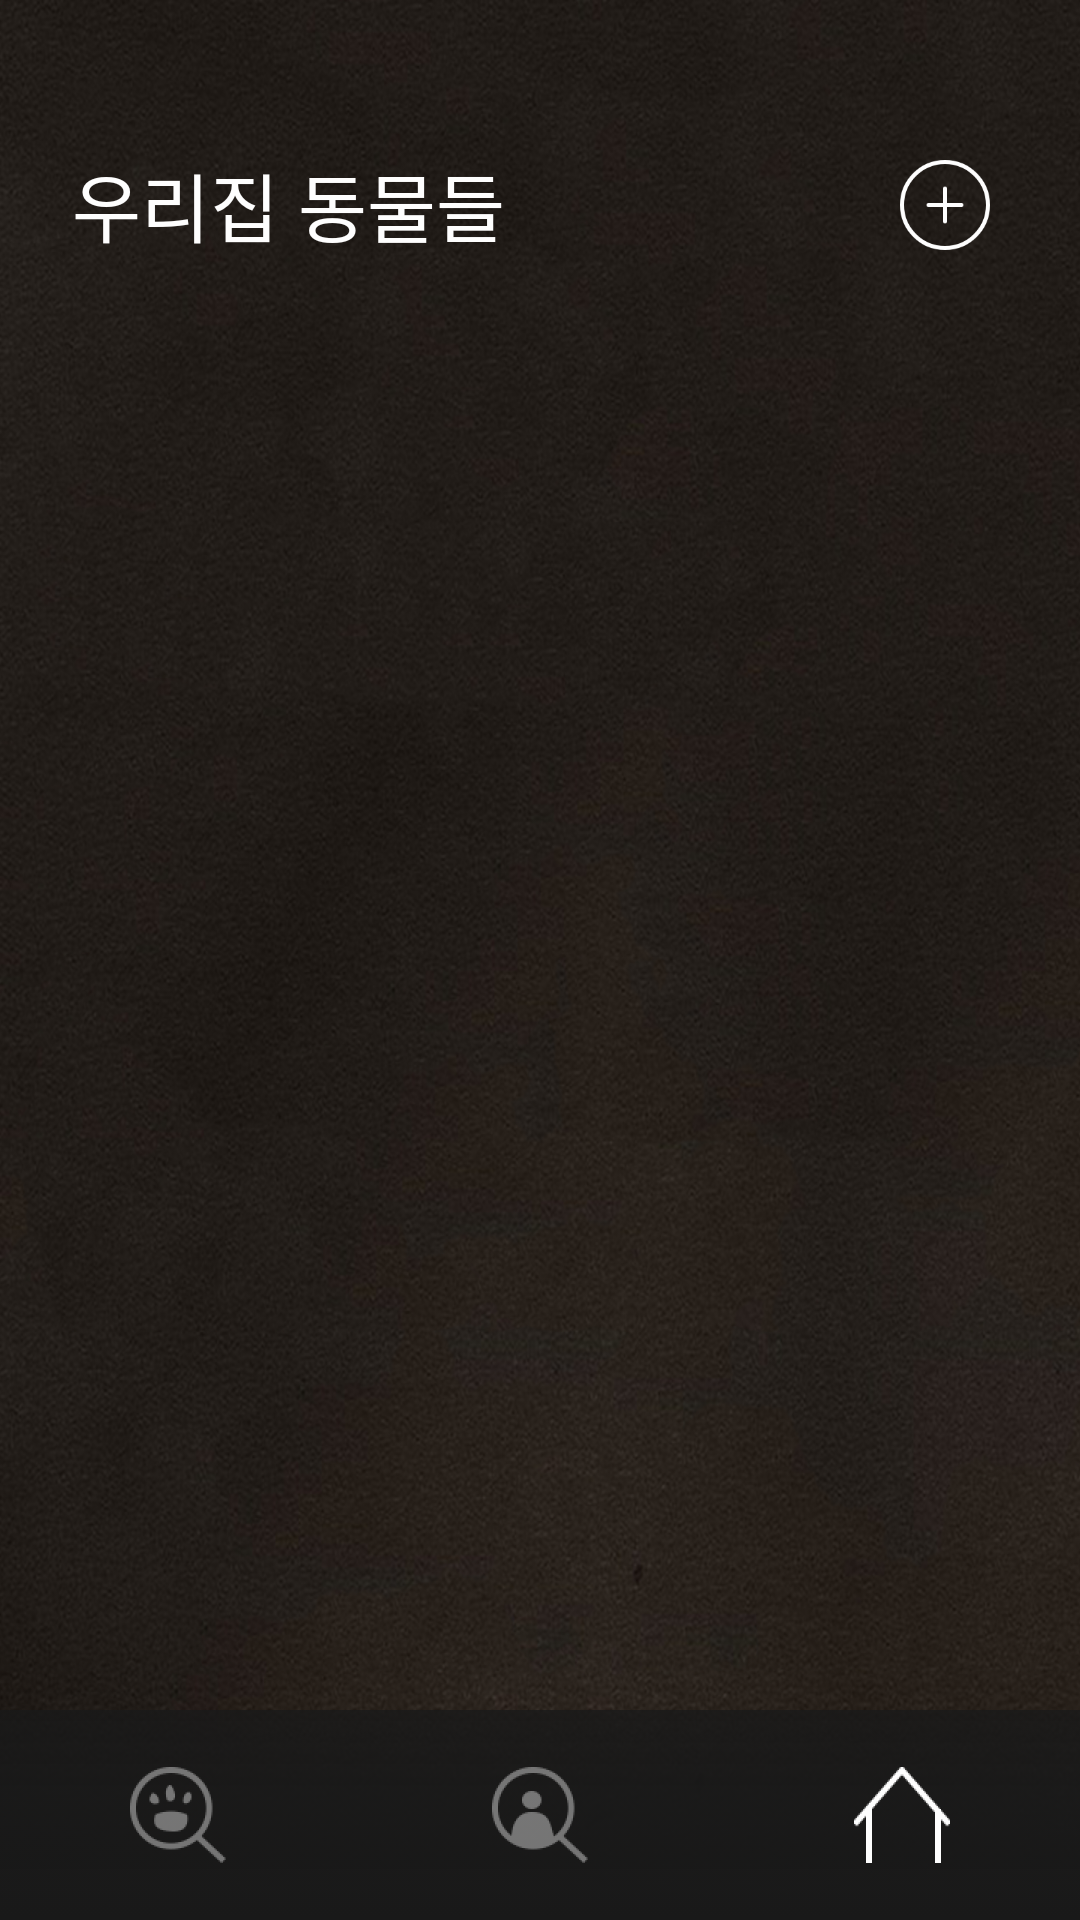

Named icons in this screenshot (1080×1920) and their bounding boxes, bbox(x1, y1, x2, y2):
plus: bbox(900, 160, 990, 250)
